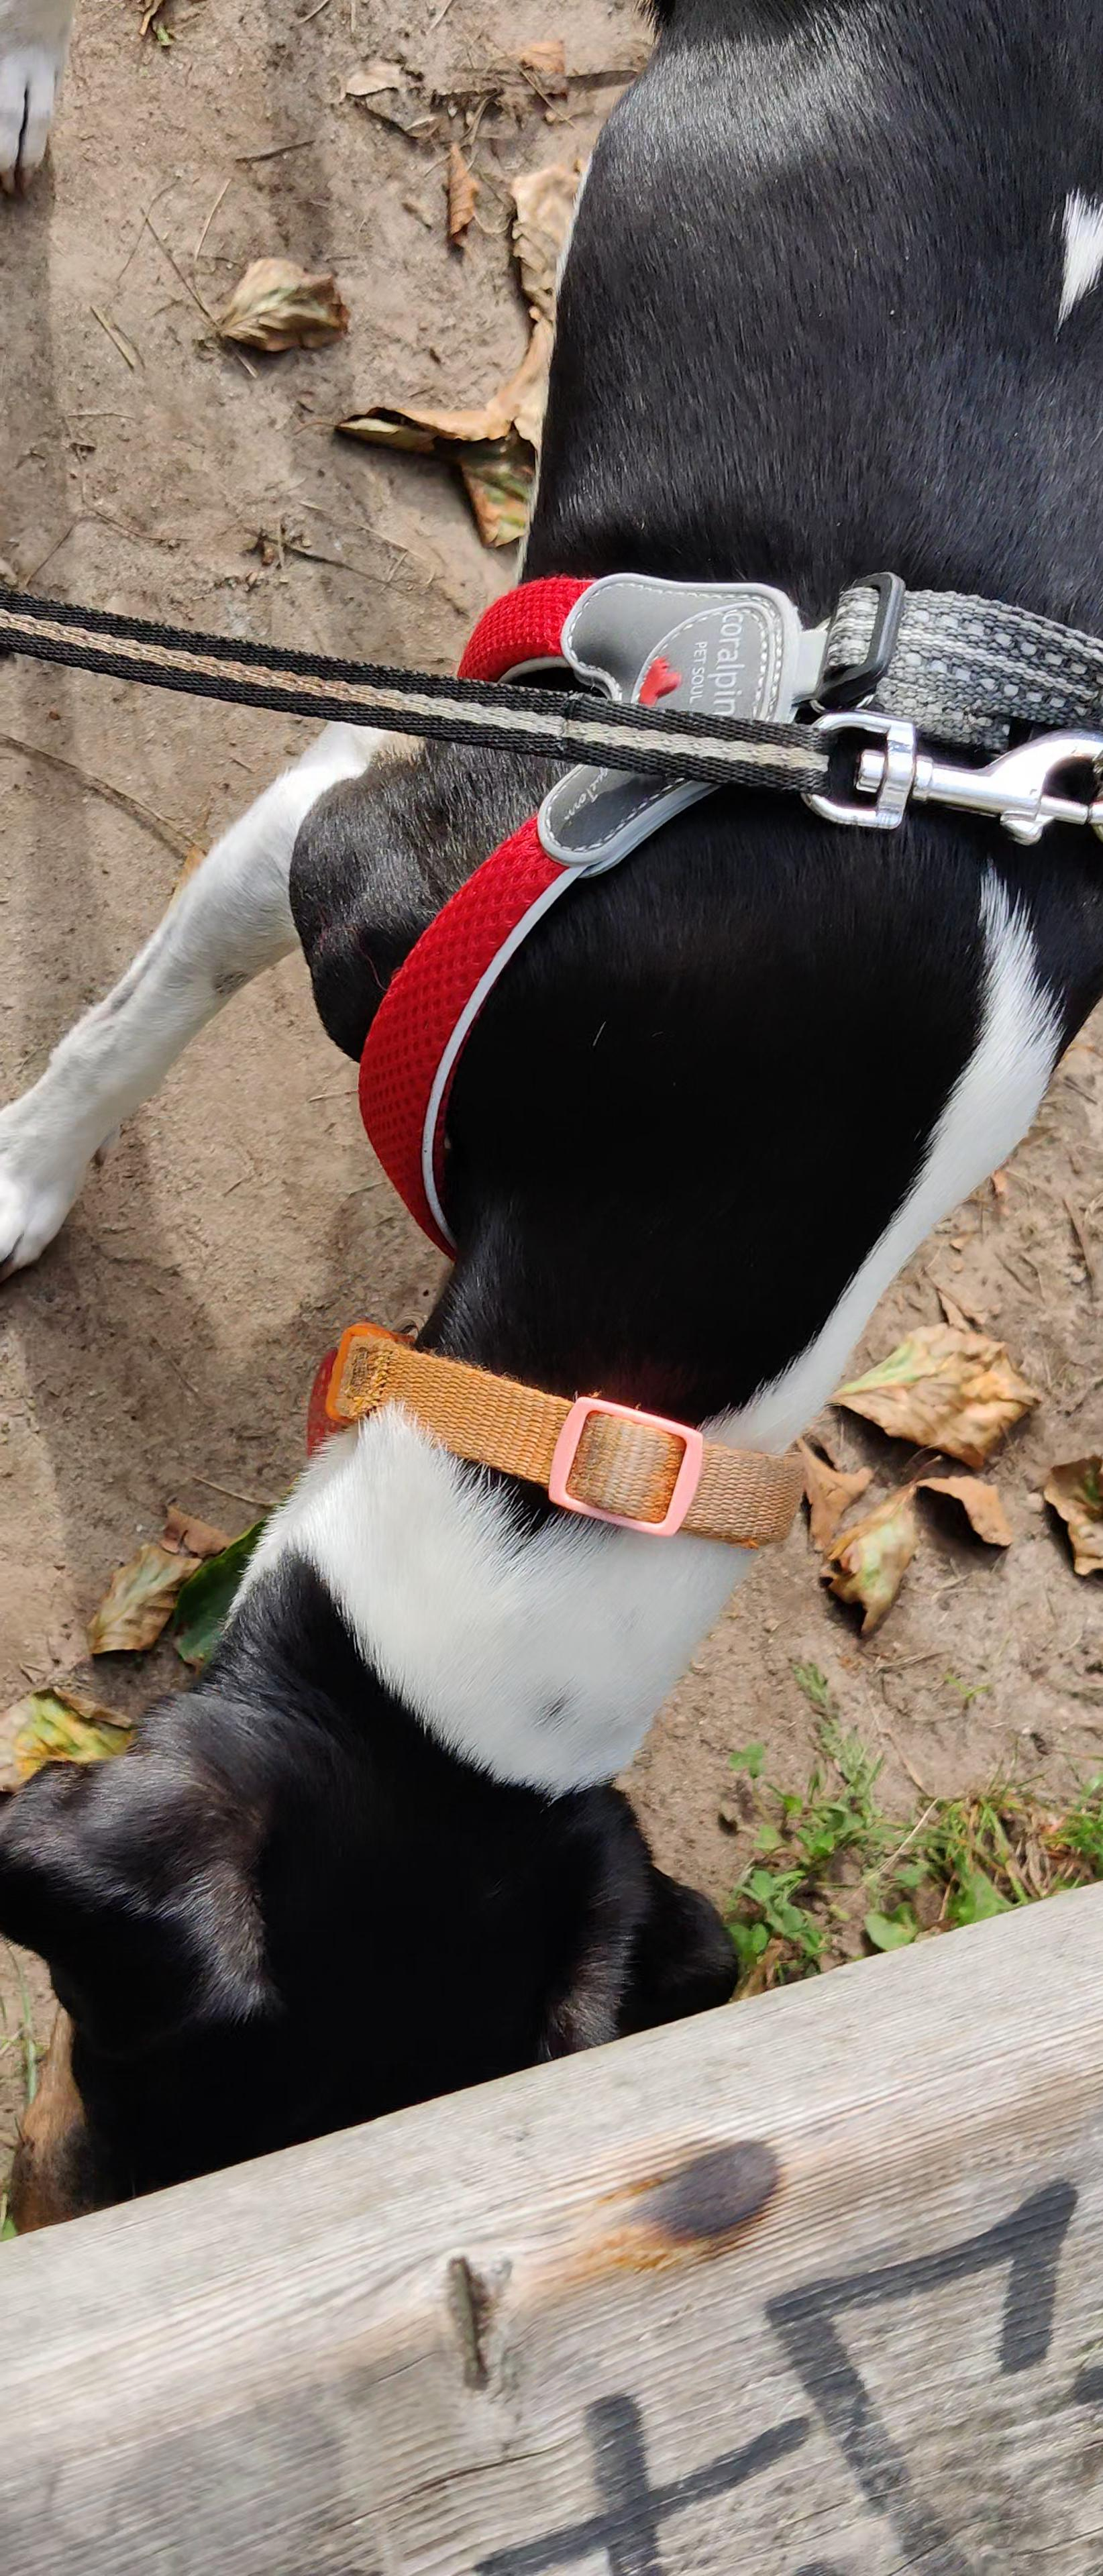Dog: (0, 0, 1103, 2254)
